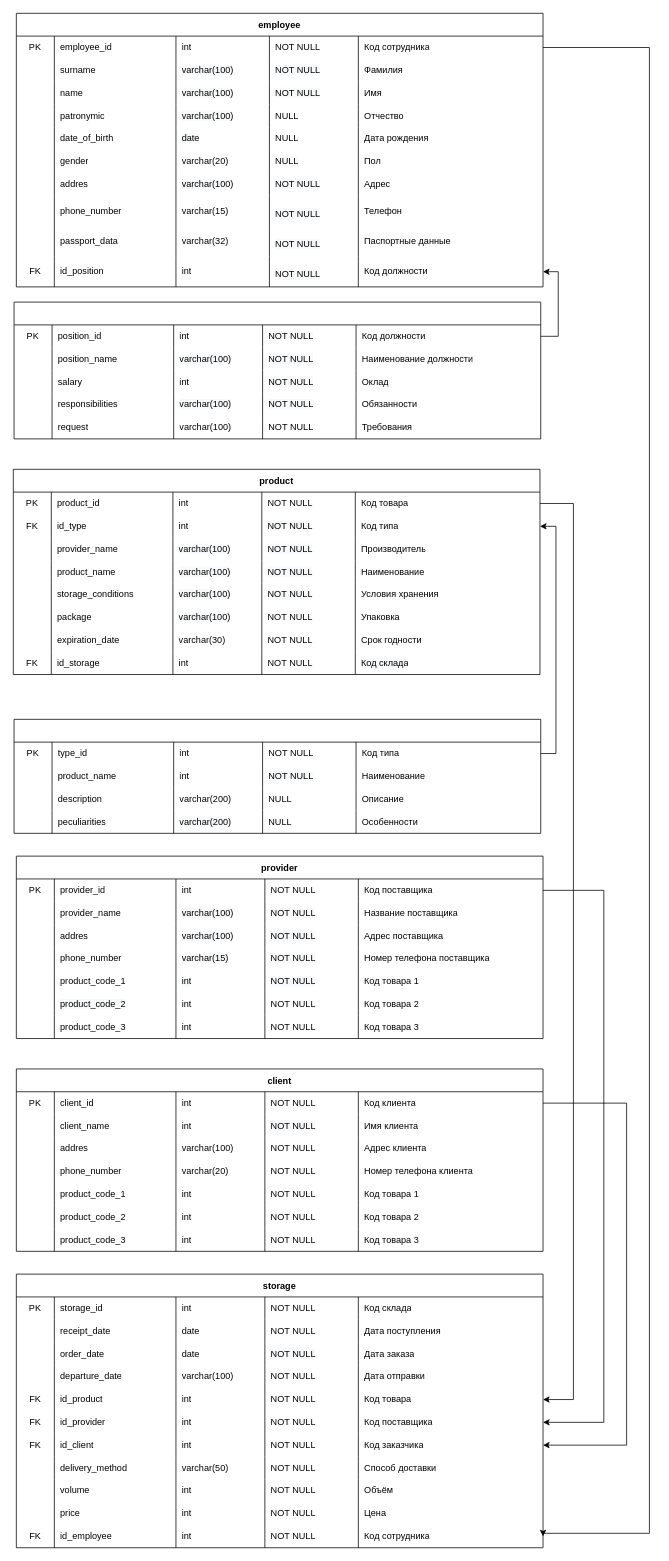
Image size: 669x1561. Some labels were removed from this diagram. The box of each missing label's shape, as (x1, y1, x2, y2) in pixels:
positon: (13, 301, 541, 439)
product_type: (13, 719, 541, 833)
